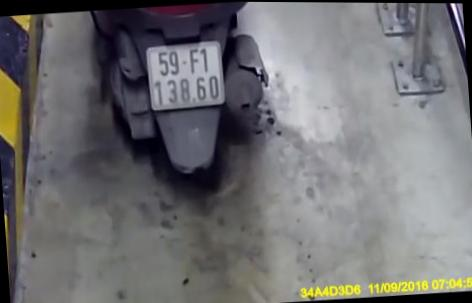LP: (145, 39, 227, 112)
